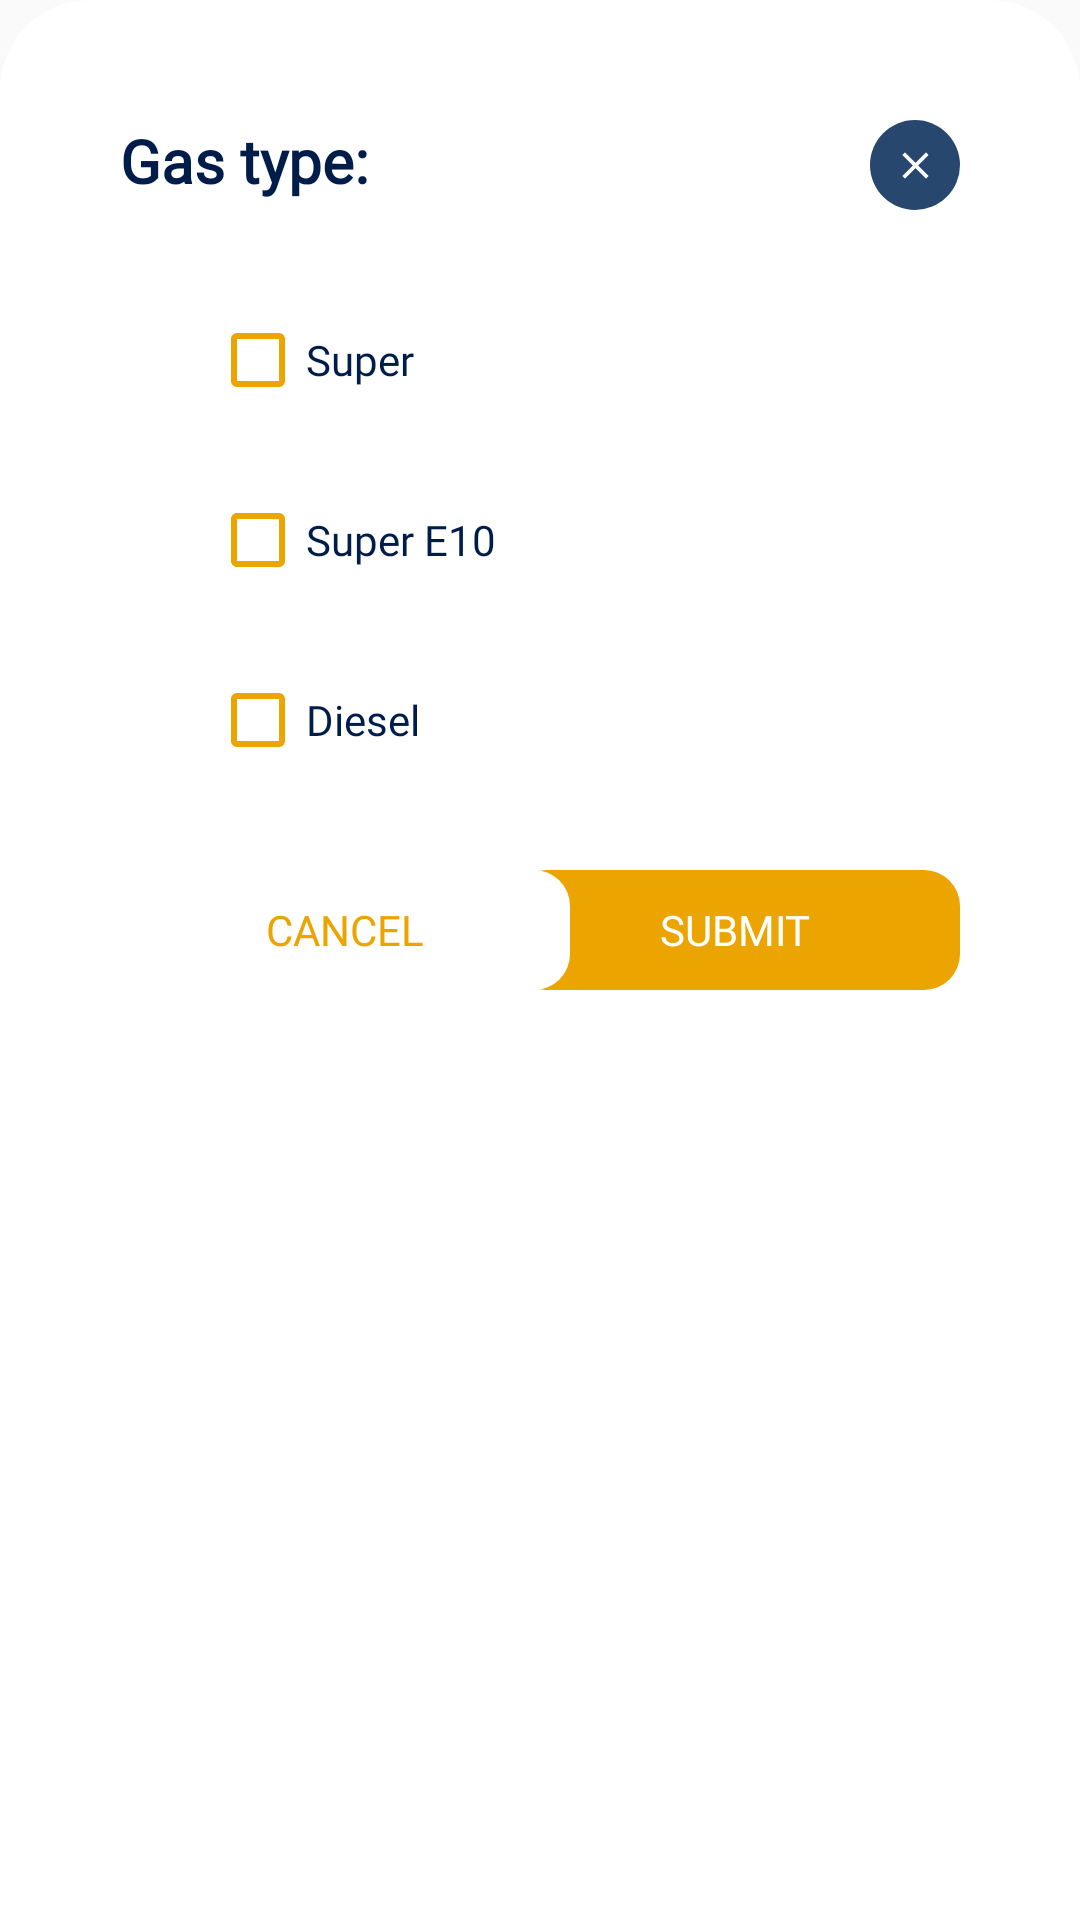

Named icons in this screenshot (1080w x 1920h) and their bounding boxes, (x1, y1, x2, y2):
closeicon: (870, 120, 960, 210)
